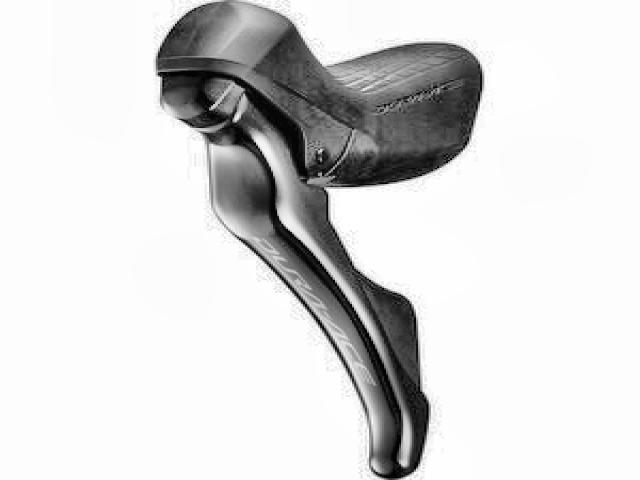sti_shifter: (151, 0, 467, 478)
